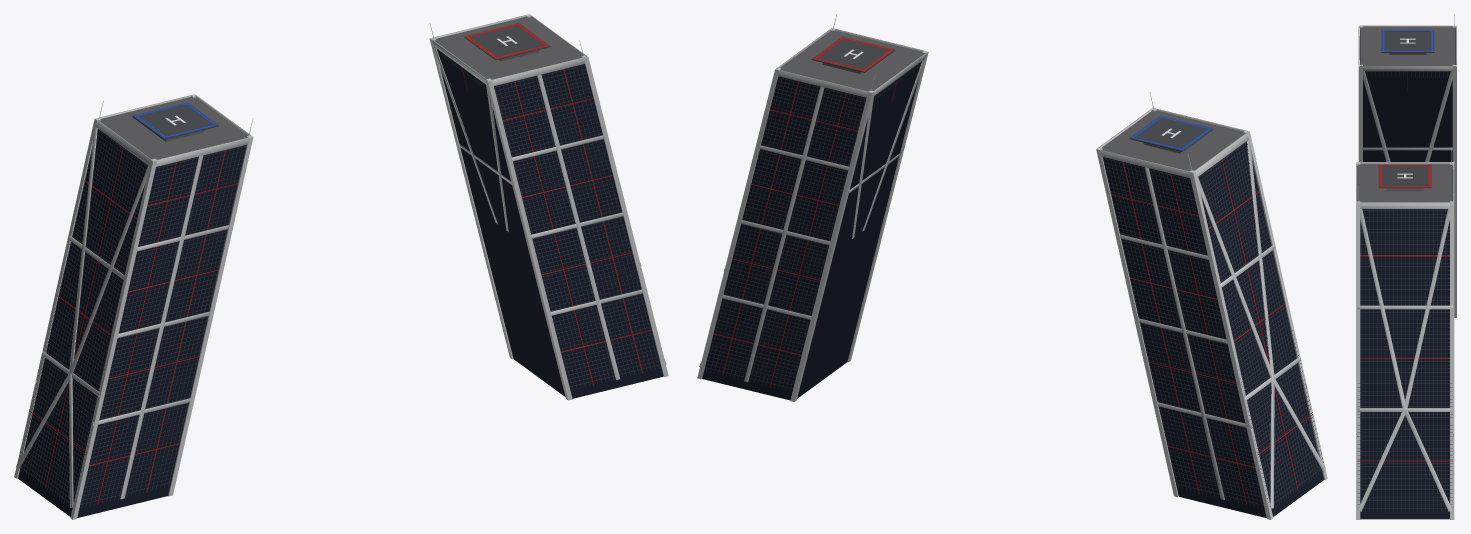
3 views of the same model, side by side, from view 1: azimuth 30°, elevation 25°; view 2: azimuth 150°, elevation 25°; view 3: azimuth 270°, elevation 25° (orthographic). The views are drawn at different scales.
Parts seen in each view (by area): view 1: glass, lines_roofs, stainless; view 2: glass, lines_roofs, stainless; view 3: glass, lines_roofs, stainless.
Part boxes in pixels (box(x1,y1,x2,y2)): glass: box(18, 48, 663, 517); lines_roofs: box(18, 16, 661, 508); stainless: box(14, 14, 668, 519); glass: box(702, 61, 1323, 517); lines_roofs: box(705, 14, 1323, 508); stainless: box(697, 28, 1327, 519); glass: box(1357, 29, 1455, 519); lines_roofs: box(1357, 14, 1455, 511); stainless: box(1356, 25, 1456, 519).
Size of the model in its own units: 216 by 124 by 37.93.
